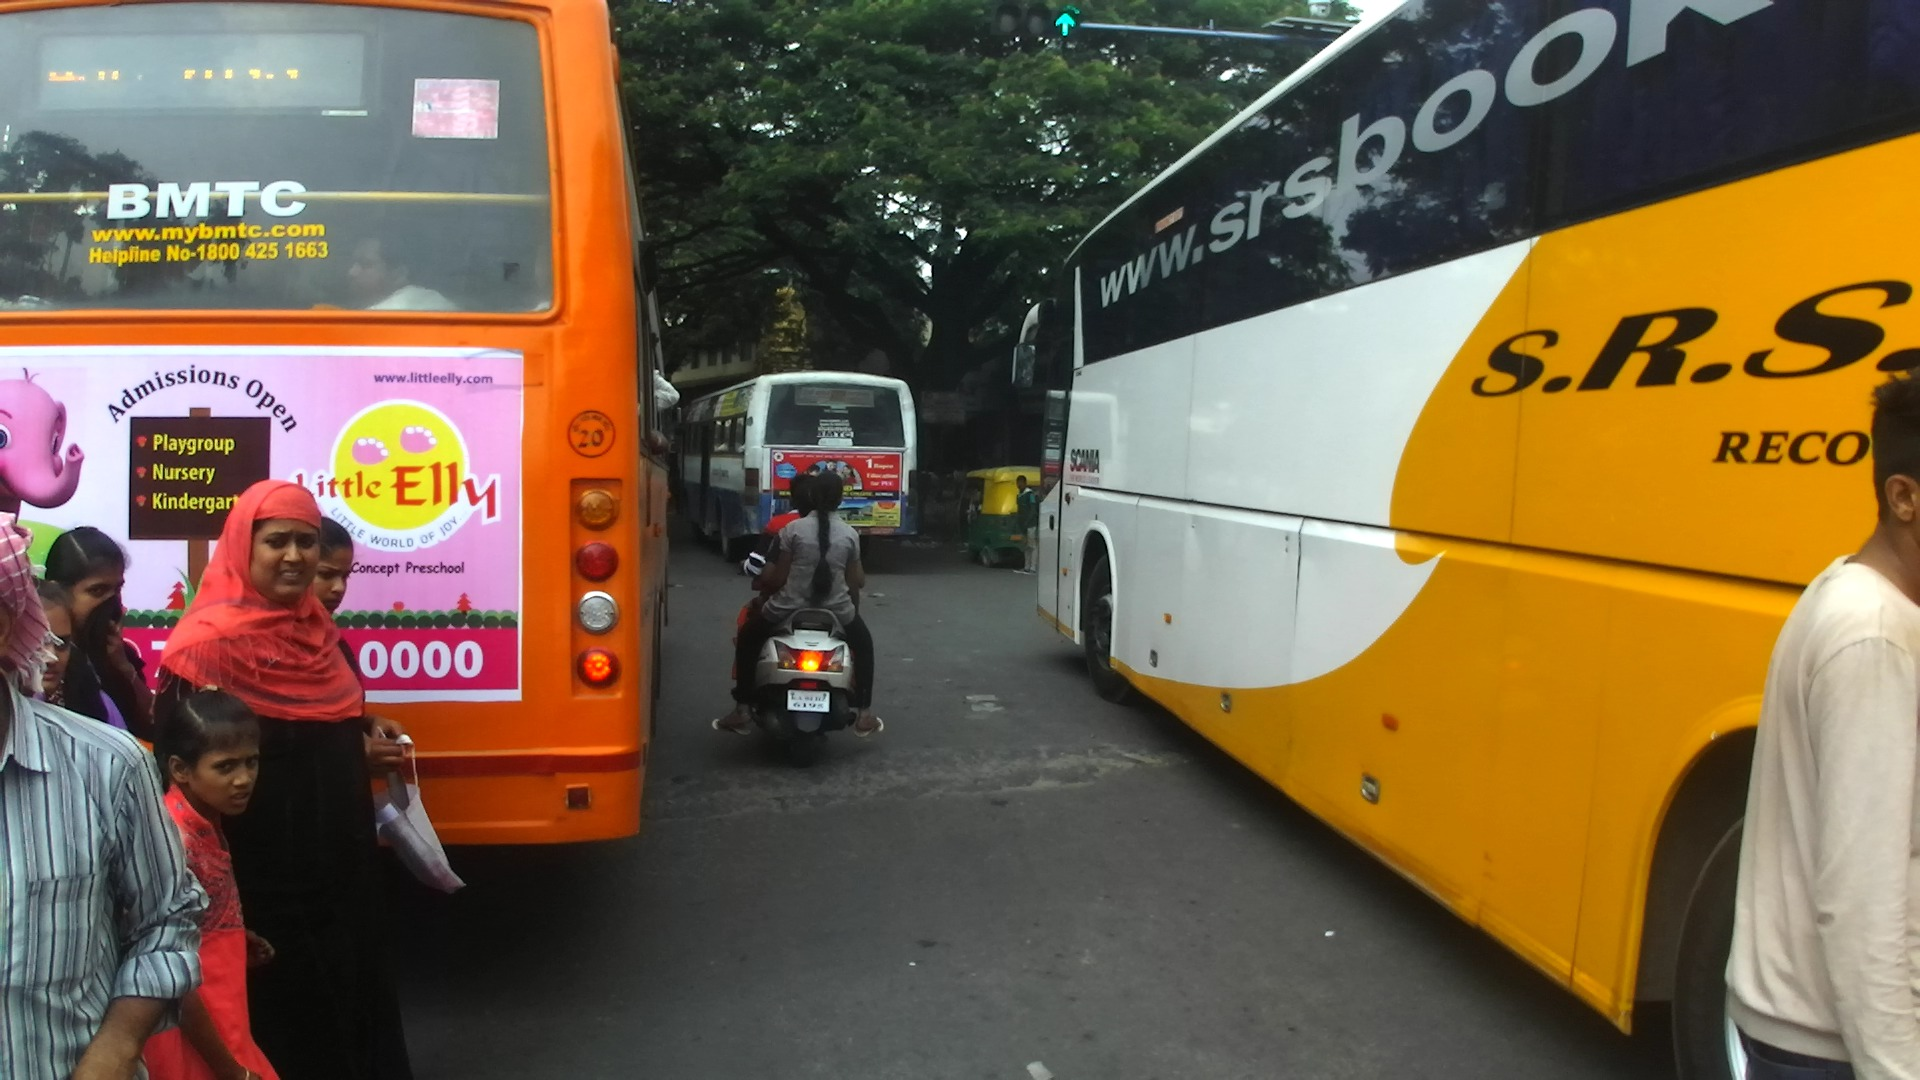autorickshaw: (958, 465, 1041, 568)
bus: (1009, 1, 1920, 1080), (1, 1, 676, 847), (678, 370, 919, 563)
motorcycle: (753, 606, 857, 769)
person: (154, 480, 405, 1080), (1726, 374, 1920, 1080), (1, 512, 208, 1080), (309, 515, 467, 895), (137, 686, 278, 1080), (44, 526, 154, 755), (26, 574, 125, 734), (1010, 474, 1040, 575)
rider: (711, 471, 884, 737), (730, 472, 816, 704), (749, 473, 823, 641)
traffic light: (994, 1, 1083, 42)
